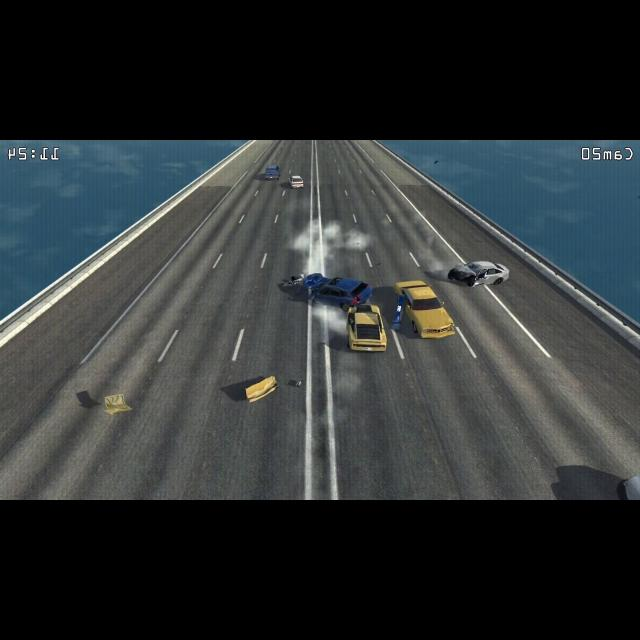accident: (302, 272, 387, 354)
